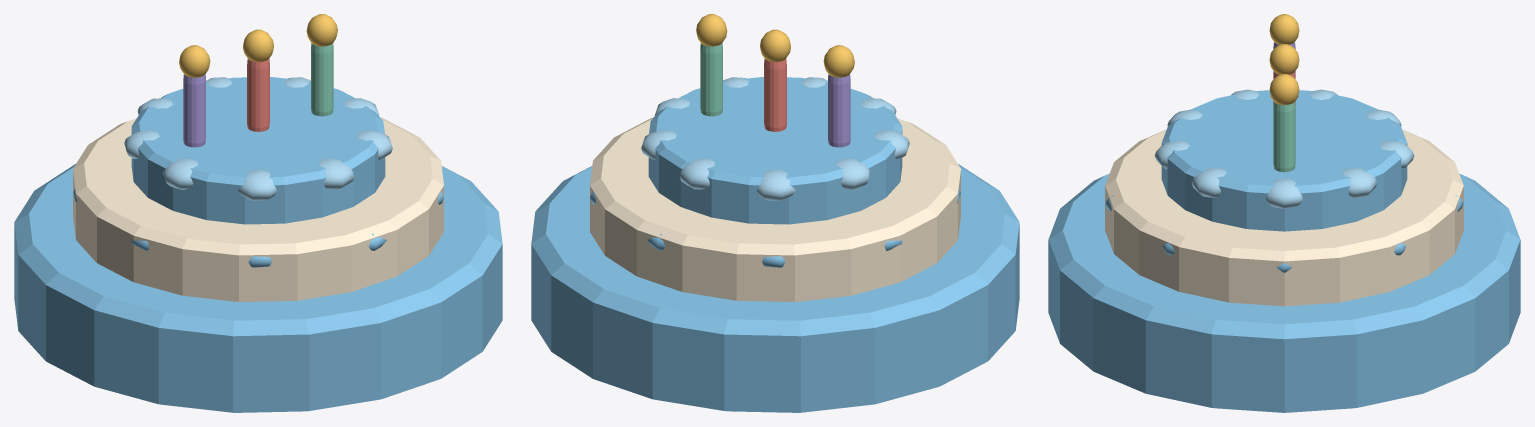
The model's file is birthday_cake.glb.
3 views of the same model, side by side, from view 1: azimuth 30°, elevation 25°; view 2: azimuth 150°, elevation 25°; view 3: azimuth 270°, elevation 25° (orthographic). The views are drawn at different scales.
Visible parts, largest first — view 1: model; view 2: model; view 3: model.
Part boxes in pixels (<box>): model: <box>14,14,502,412</box>; model: <box>531,14,1019,412</box>; model: <box>1048,14,1520,412</box>.
Bounding box in the file's own units: 0.7 × 0.45 × 0.7.
